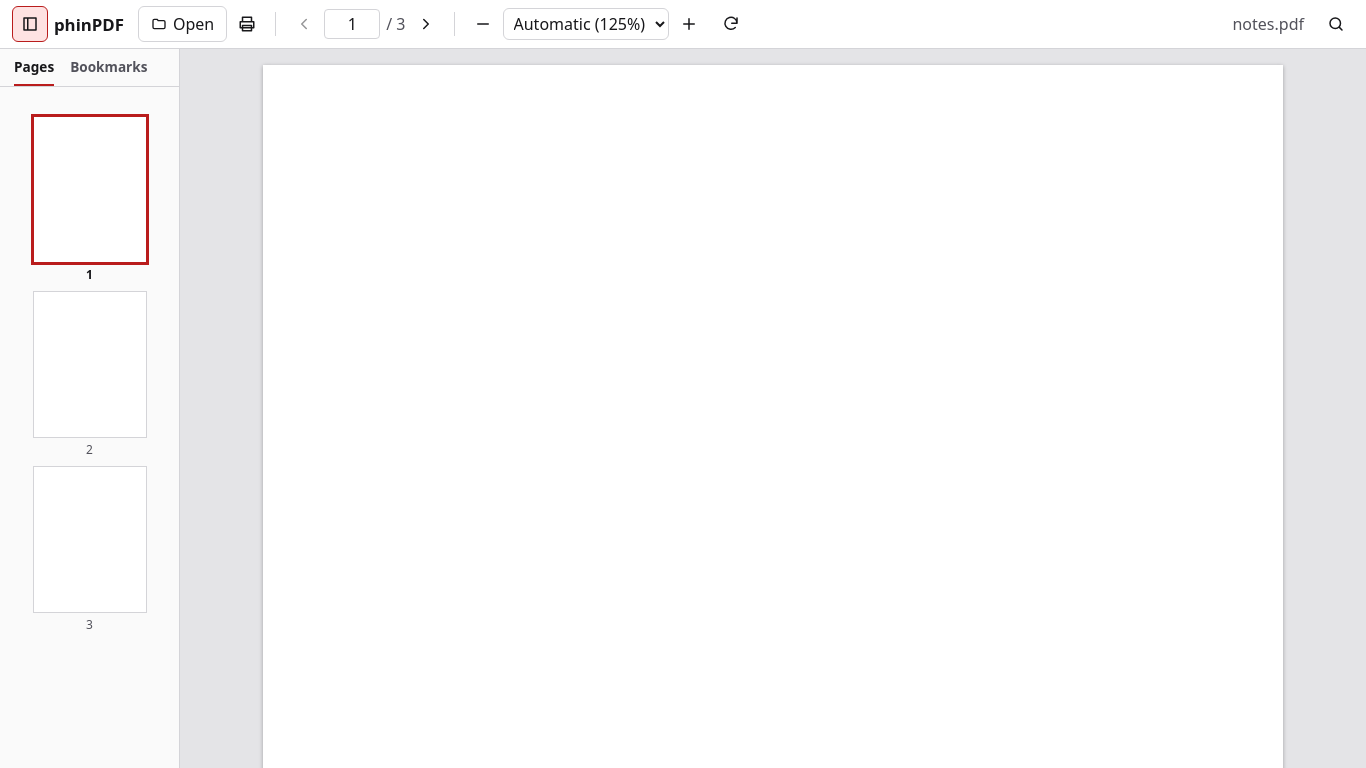
Viewer › shows bookmarks and jumps to their pages
Click the tab "Bookmarks" at (109, 68), box [70,49,148,86]
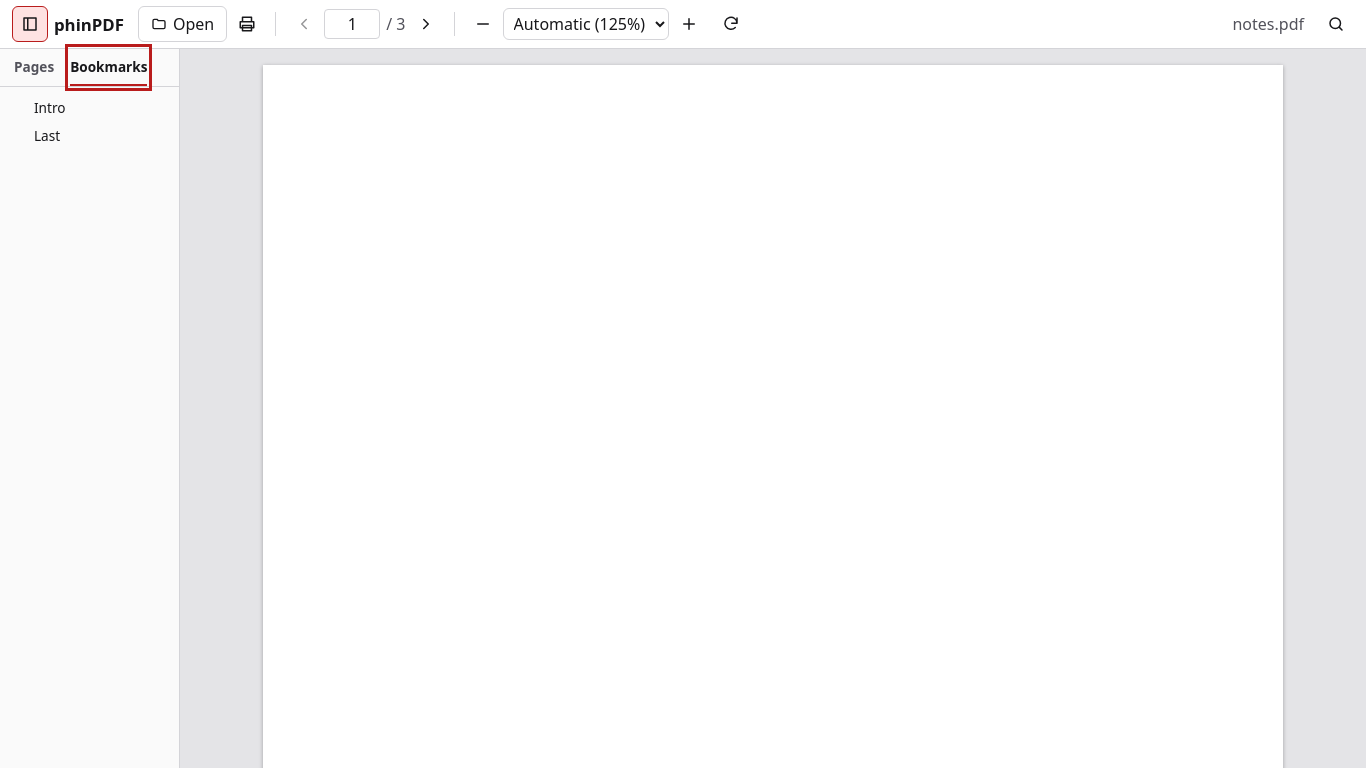
Click the button "Last" at (102, 135), box [28,121,175,149]
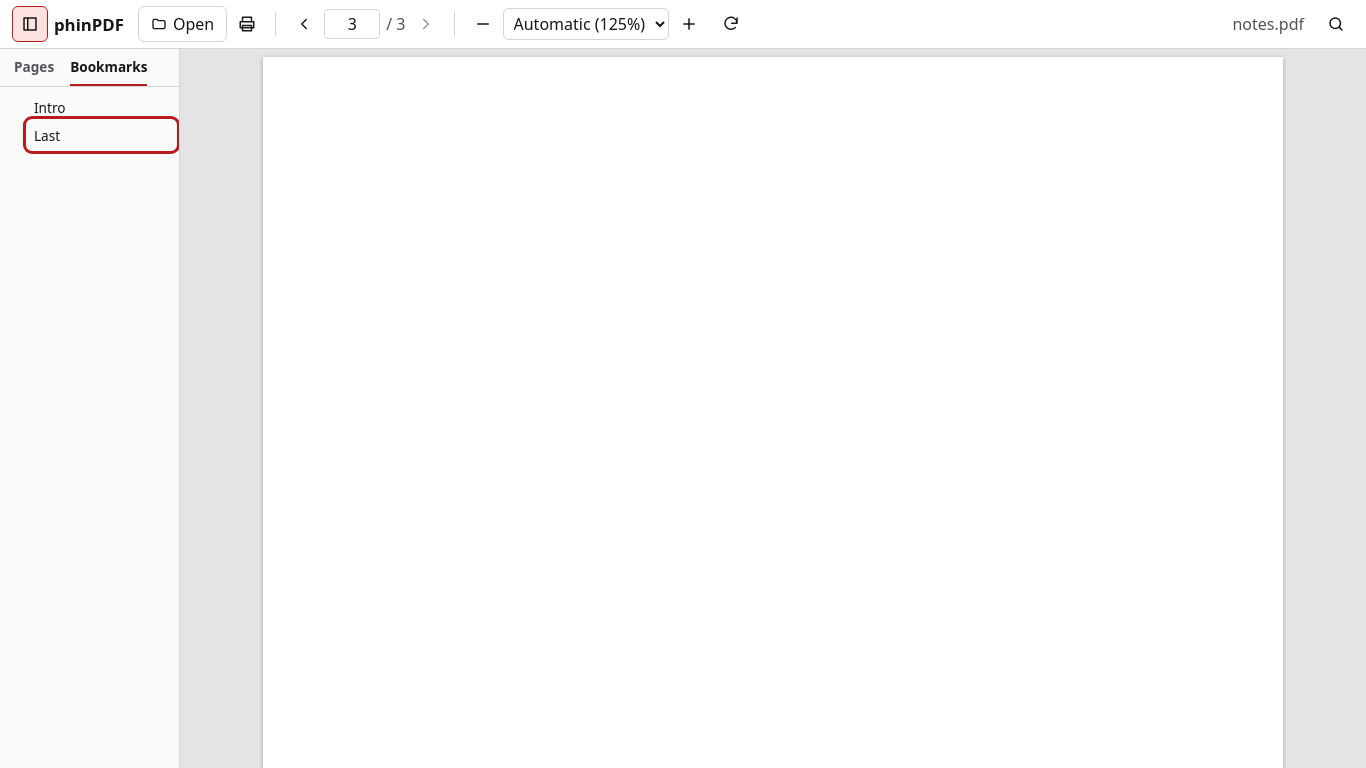
Click the tab "Pages" at (34, 68), box [14,49,54,86]
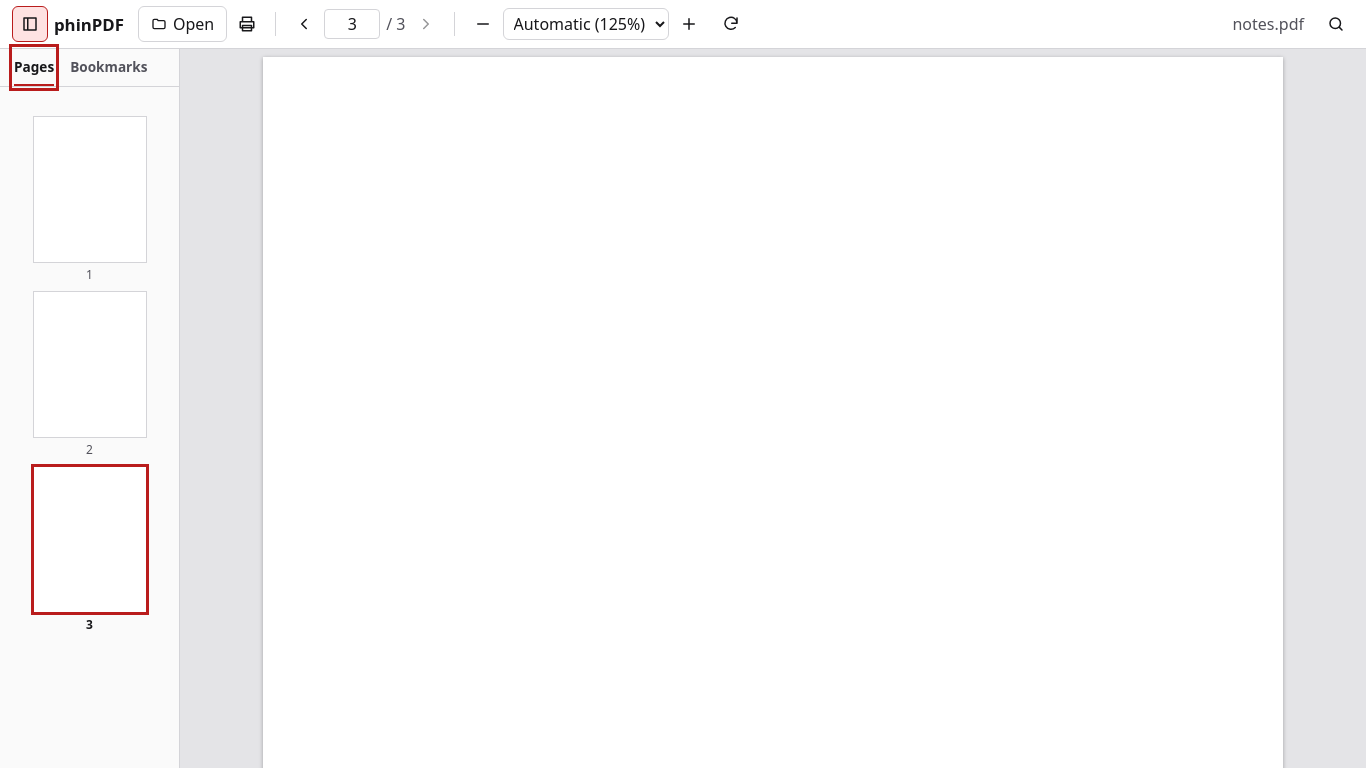
Result: the element named "Page thumbnails" is shown at [34,117,146,633]
